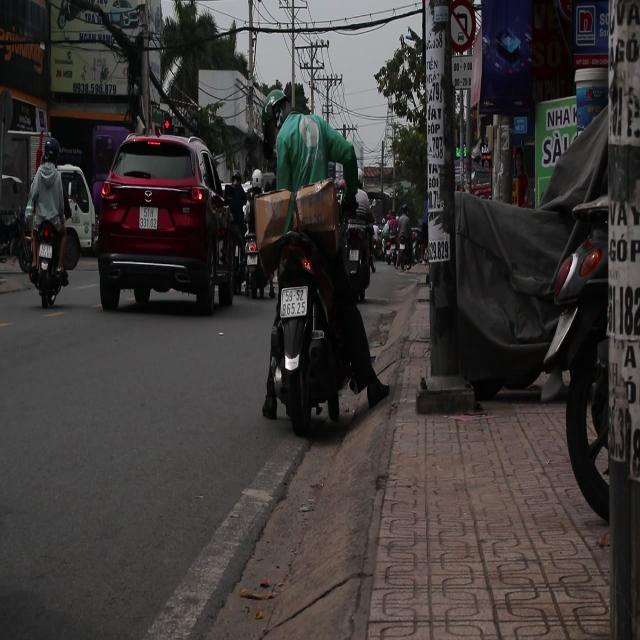car: (96, 134, 240, 318)
motorbike: (260, 230, 355, 432), (23, 159, 78, 309), (231, 218, 274, 314), (346, 232, 378, 316), (394, 228, 421, 286)
truck: (61, 168, 97, 256)
